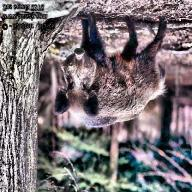boar: (45, 1, 192, 141)
